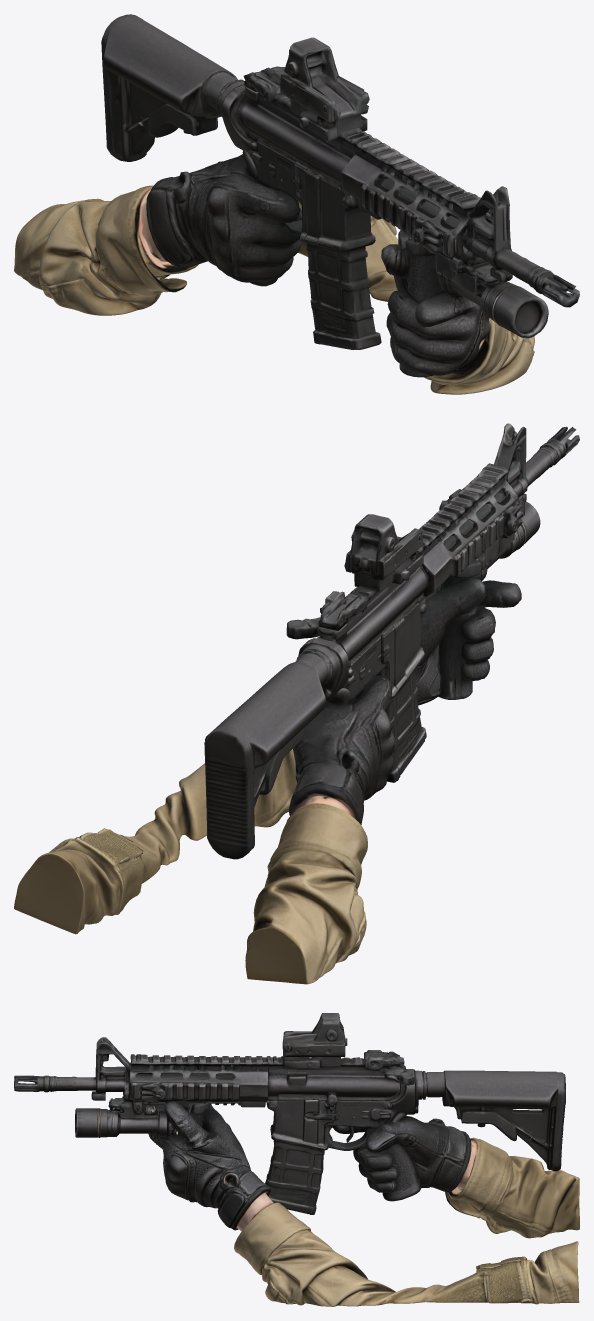
Rendered from hands.glb.
The picture shows the model from 3 angles, top to bottom: view 1: azimuth 30°, elevation 25°; view 2: azimuth 150°, elevation 25°; view 3: azimuth 270°, elevation 25°; orthographic projection. The views are drawn at different scales.
Parts seen in each view (by area): view 1: tripo_node_d168c690-f133-4c70-a3fc-2d112cef1531; view 2: tripo_node_d168c690-f133-4c70-a3fc-2d112cef1531; view 3: tripo_node_d168c690-f133-4c70-a3fc-2d112cef1531.
Part boxes in pixels (left/top/right/bottom): tripo_node_d168c690-f133-4c70-a3fc-2d112cef1531: left=14, top=14, right=579, bottom=394; tripo_node_d168c690-f133-4c70-a3fc-2d112cef1531: left=14, top=423, right=579, bottom=984; tripo_node_d168c690-f133-4c70-a3fc-2d112cef1531: left=14, top=1013, right=579, bottom=1306.
Size of the model in its own units: 0.4516 by 0.4503 by 0.9794.
1 material, 1 textured.
